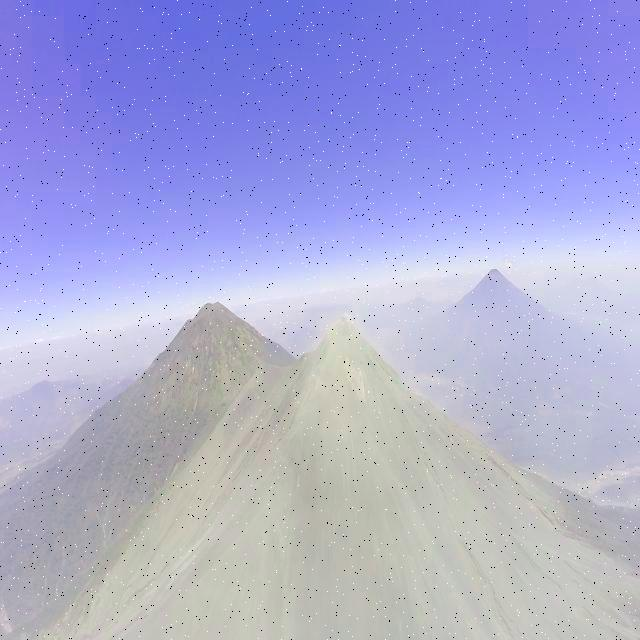Plume: (338, 308, 356, 336)
Summit: (292, 309, 396, 373)
